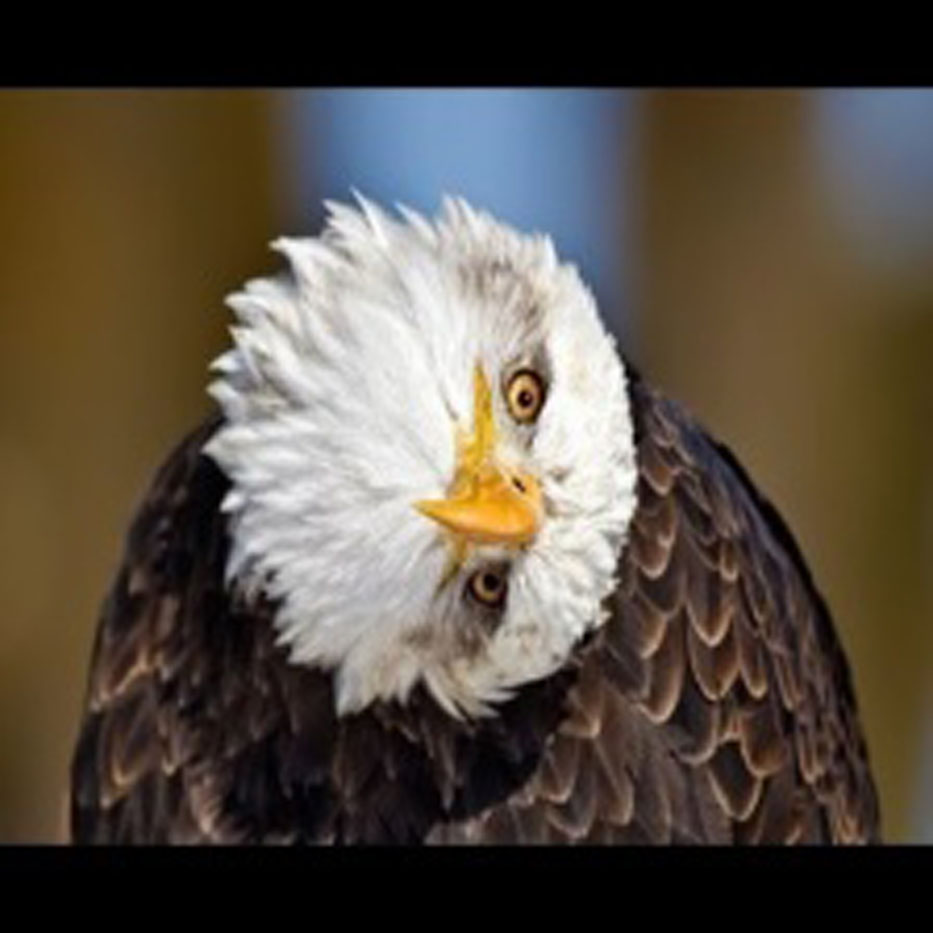Pengoyak Daging: (406, 404, 540, 584)
